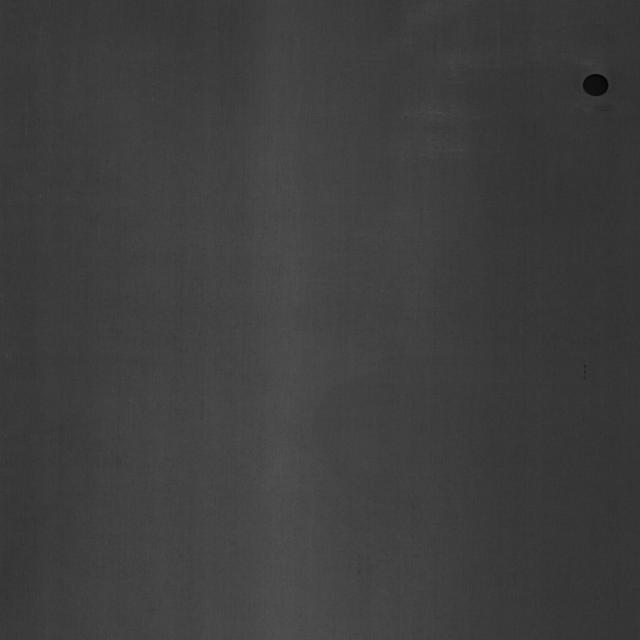crescent_gap: (581, 64, 615, 103)
